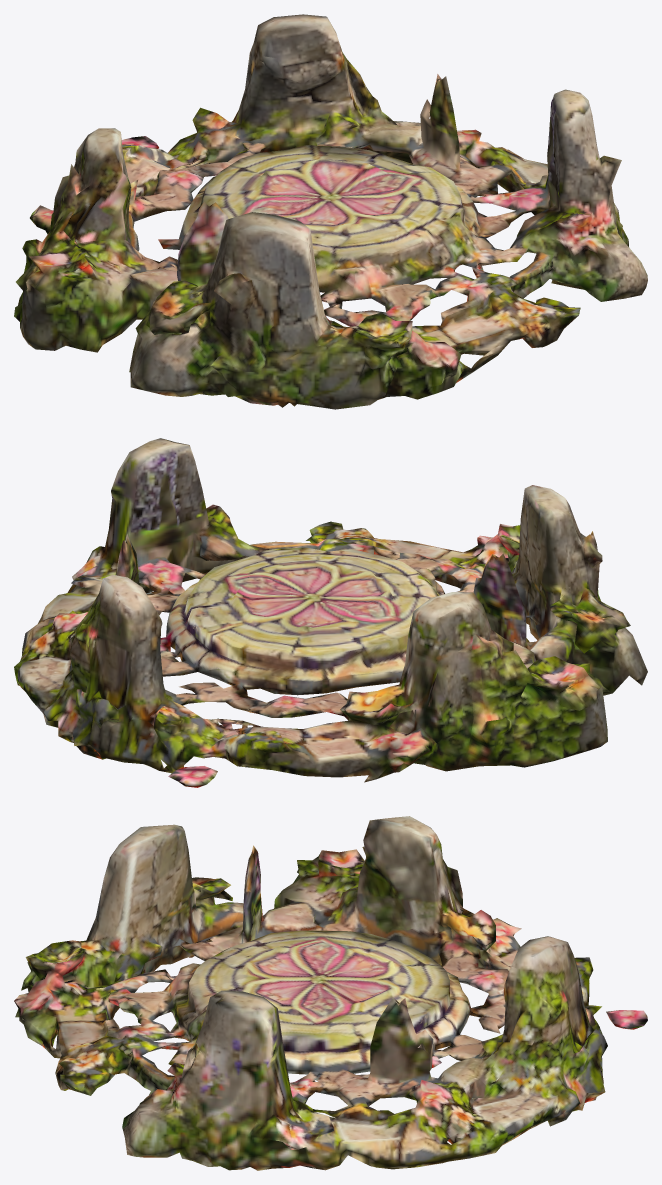
Rendered from SpringDecor_BossRoom_FlowerAltar.fbx.
3 renders of one model, top to bottom at view 1: azimuth 30°, elevation 25°; view 2: azimuth 150°, elevation 25°; view 3: azimuth 270°, elevation 25°, orthographic. The views are drawn at different scales.
Visible parts, largest first — view 1: SpringDecor_BossRoom_FlowerAltar_Mesh; view 2: SpringDecor_BossRoom_FlowerAltar_Mesh; view 3: SpringDecor_BossRoom_FlowerAltar_Mesh.
Part boxes in pixels (box(x1,y1,x2,y2)): SpringDecor_BossRoom_FlowerAltar_Mesh: box(14, 14, 647, 409); SpringDecor_BossRoom_FlowerAltar_Mesh: box(14, 438, 647, 787); SpringDecor_BossRoom_FlowerAltar_Mesh: box(14, 816, 647, 1170).
Size of the model in its own units: 5.95 by 1.64 by 6.
1 material, 1 textured.
